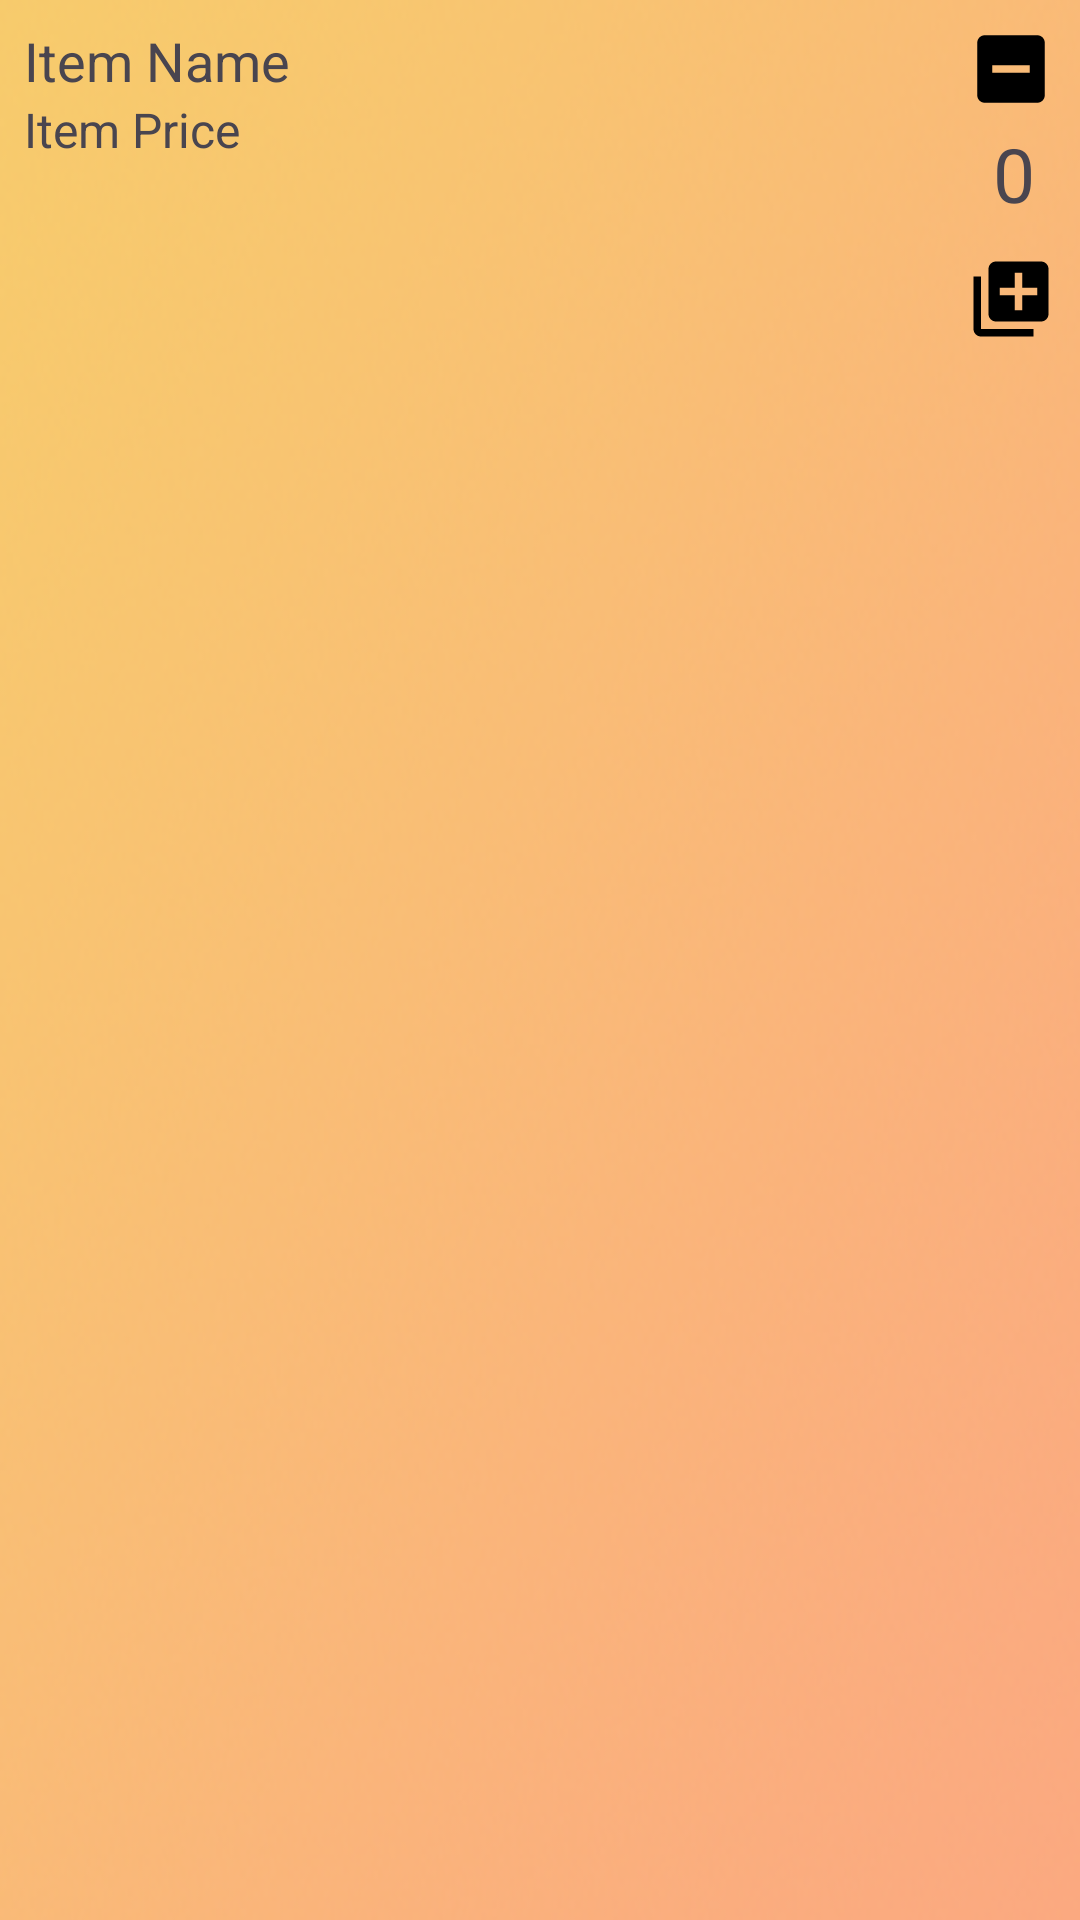

Screen size 1080×1920. Icon name, then its center in pixels as point (x, y):
add to photos: point (1011, 299)
indeterminate check box: point (1011, 69)
